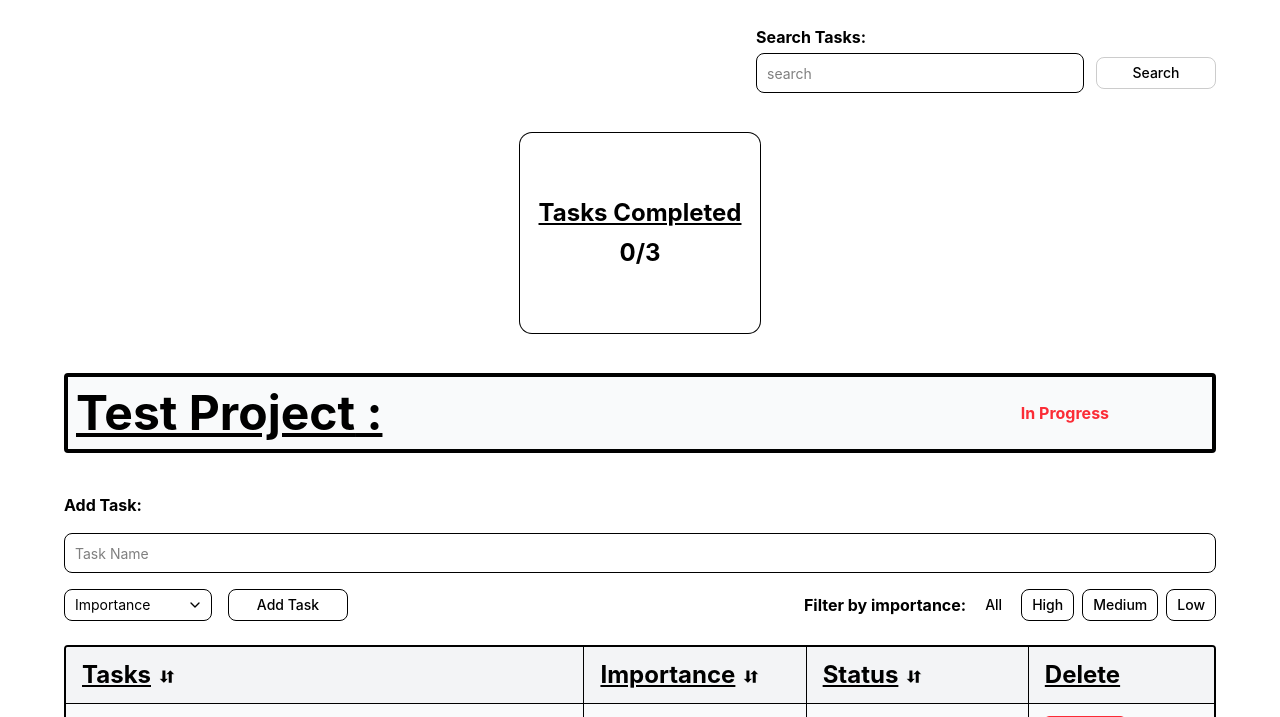
Test case: ProjectTaskPage - Add Task › filters task by importance when importance button is clicked
Expected: the heading "Filter by importance:" is shown, 804,593 -> 966,617
Click the button "High": (1048, 605) 1021,589 -> 1074,621
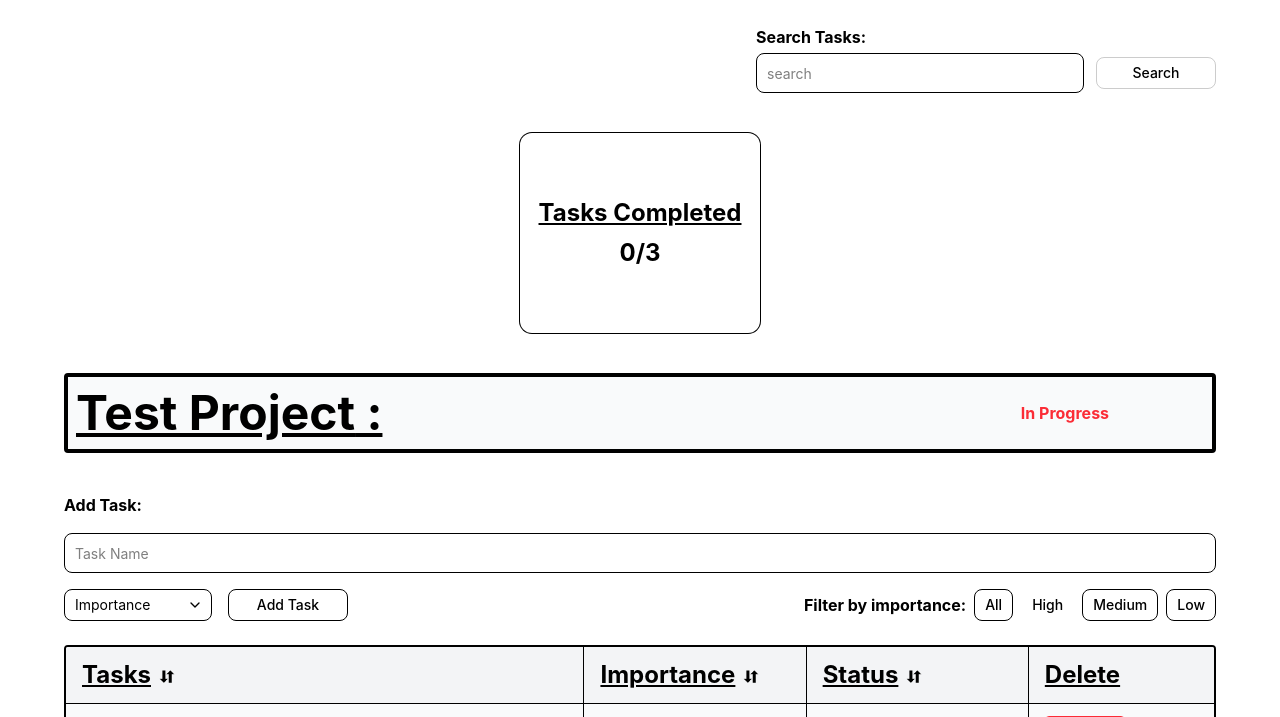
Expected: the text "low importance task" is not shown
Click the button "Medium": (1120, 605) 1082,589 -> 1158,621
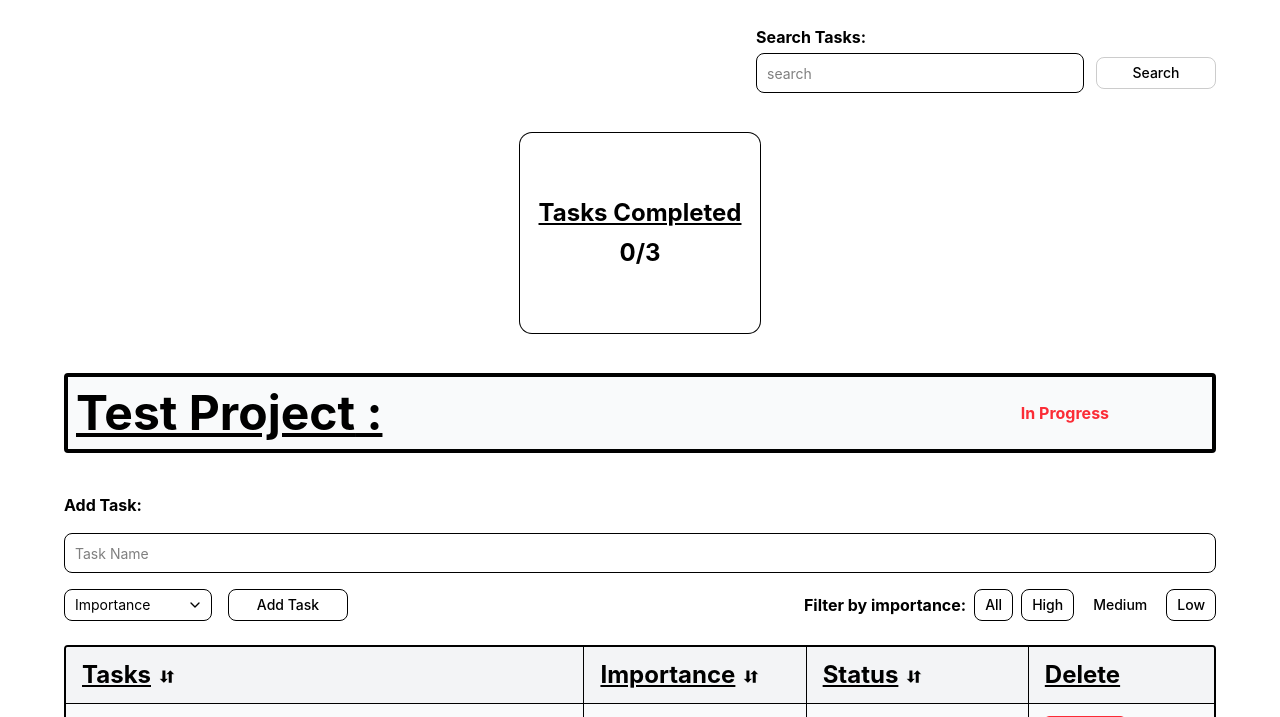
Expected: the text "low importance task" is not shown
Click the button "Low": (1191, 605) 1166,589 -> 1216,621
(page scrolled)
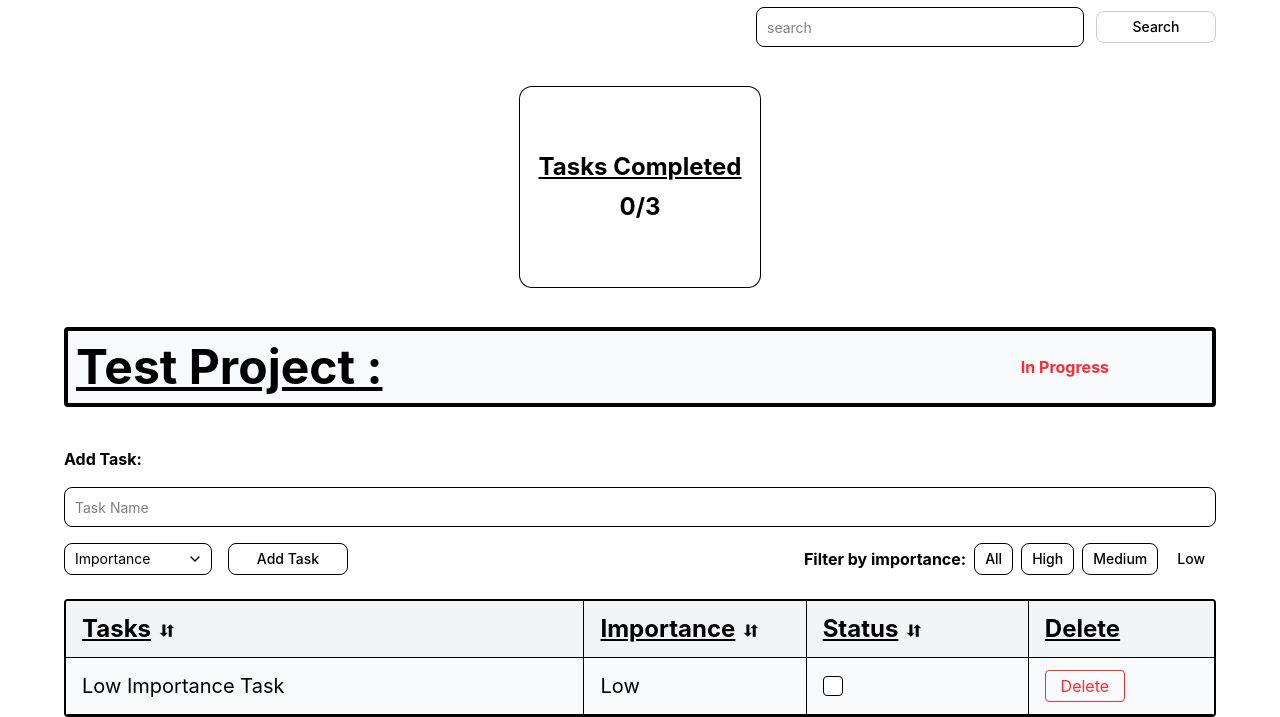
Now the text "Low Importance Task" is shown, box 82,672 -> 284,700
